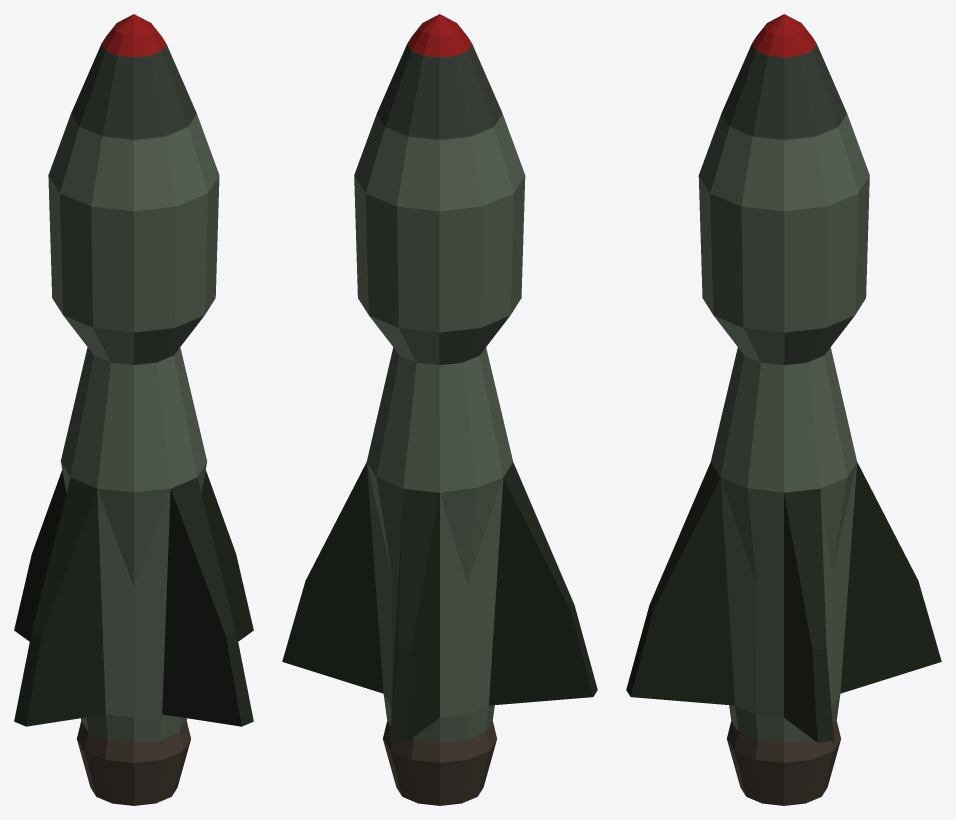
Rendered from Missile Rocket.fbx.
3 views of the same model, side by side, from view 1: azimuth 30°, elevation 25°; view 2: azimuth 150°, elevation 25°; view 3: azimuth 270°, elevation 25° (orthographic).
Parts seen in each view (by area): view 1: Missile Rocket; view 2: Missile Rocket; view 3: Missile Rocket.
Boxes of the visible parts, box(x1,y1,x2,y2) form: Missile Rocket: box(14, 14, 253, 805); Missile Rocket: box(282, 14, 597, 805); Missile Rocket: box(626, 14, 941, 805).
Size of the model in its own units: 244 by 659 by 244.
Materials: 1 (1 with a texture image).
